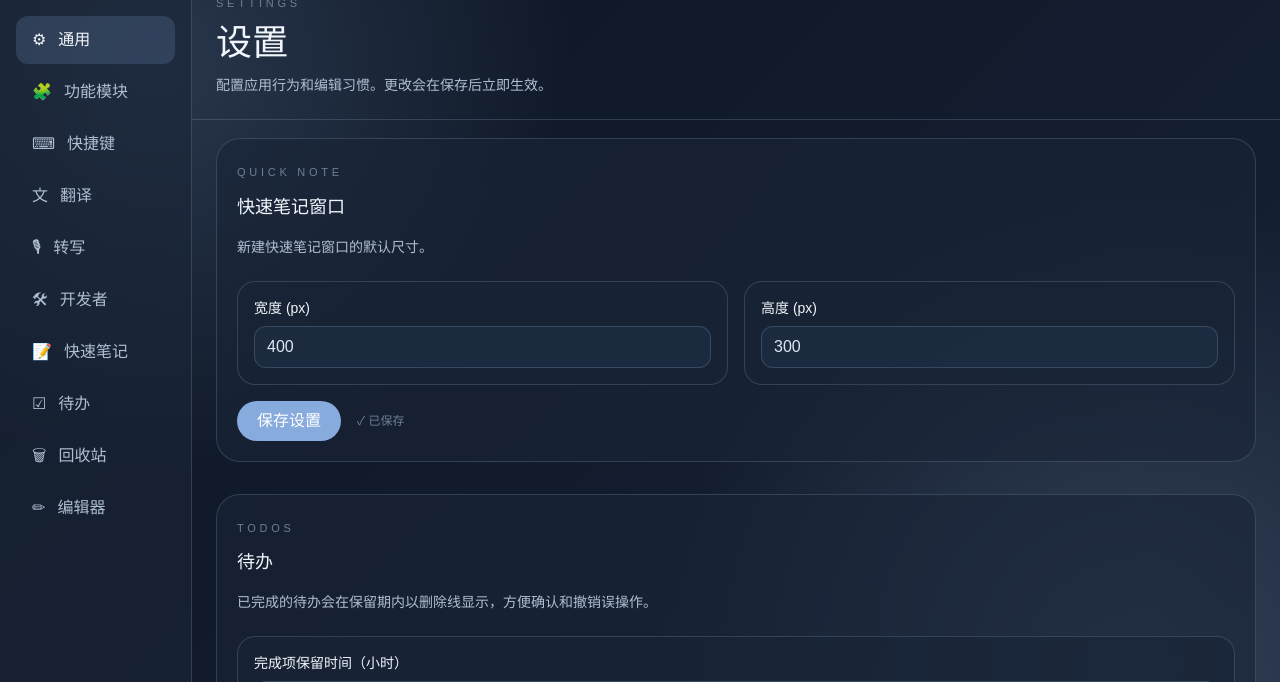
Test: SettingsPanel › 设置加载失败时阻止保存，避免用默认值覆盖现有配置
(page scrolled)
Step 1. Click the button "保存设置" → (289, 421), box [237,401,341,441]
(page scrolled)
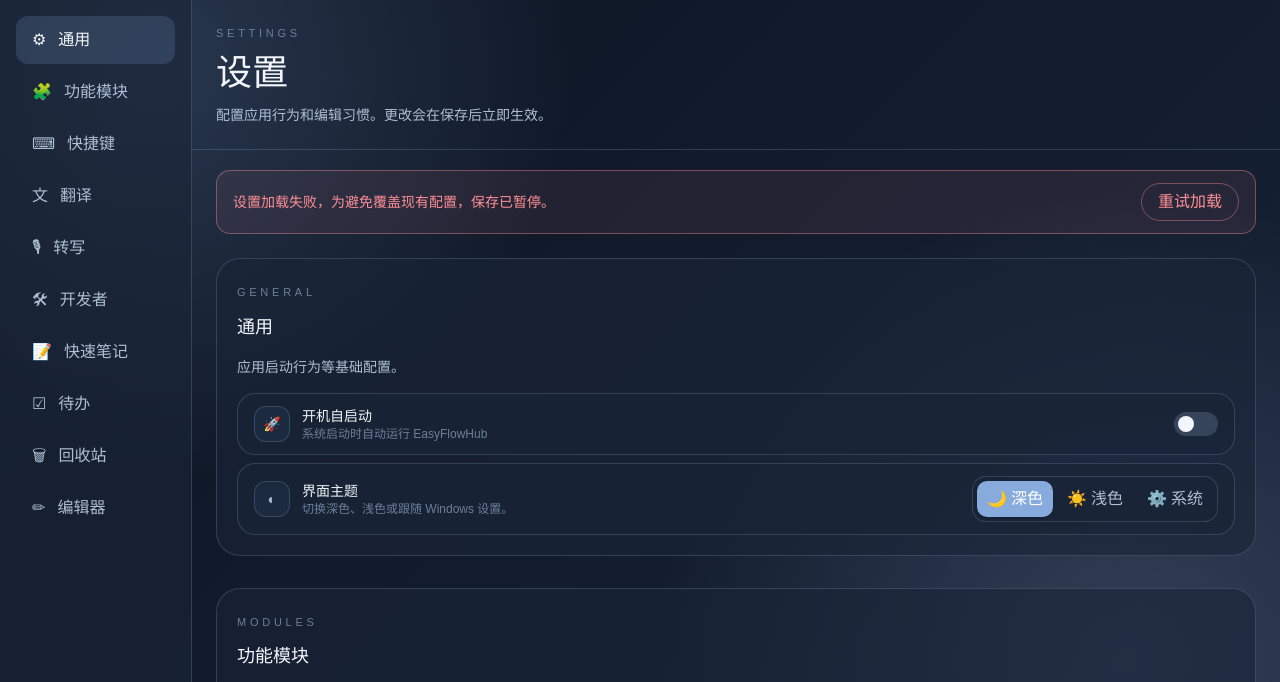
Step 2. Click the button "重试加载" → (1190, 202), box [1141,184,1239,222]
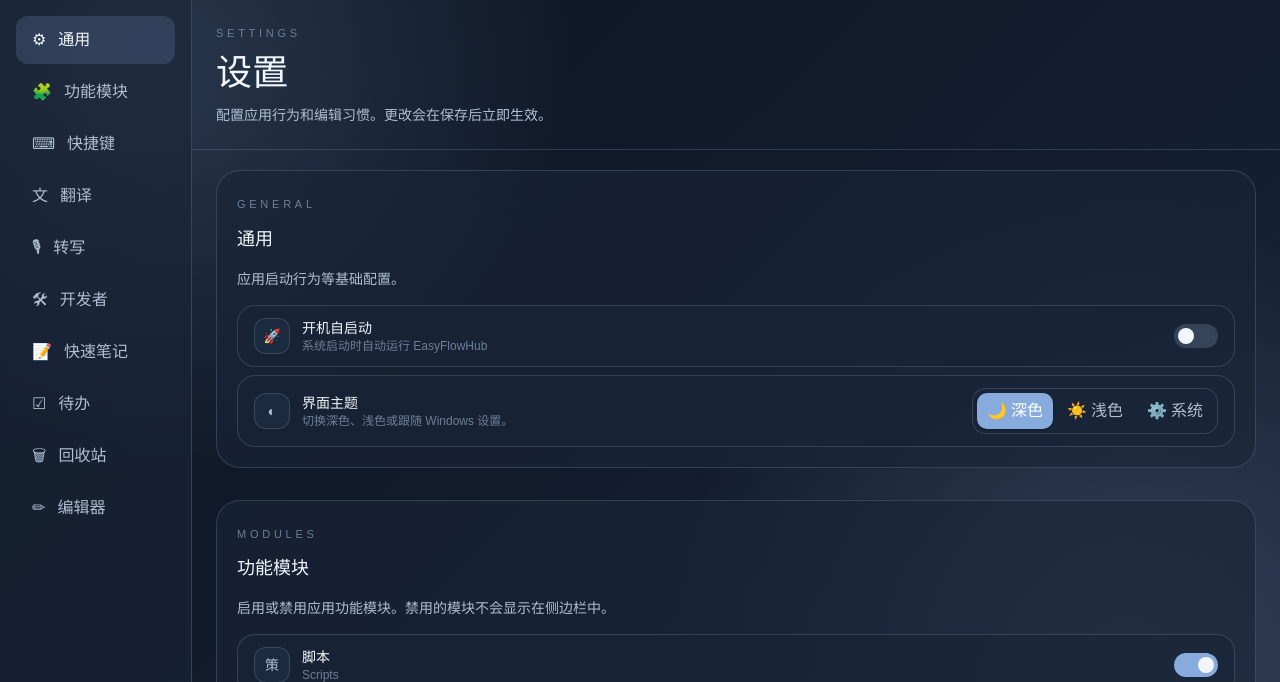
Check: the message "设置加载失败，为避免覆盖现有配置，保存已暂停。 重试加载" is gone
